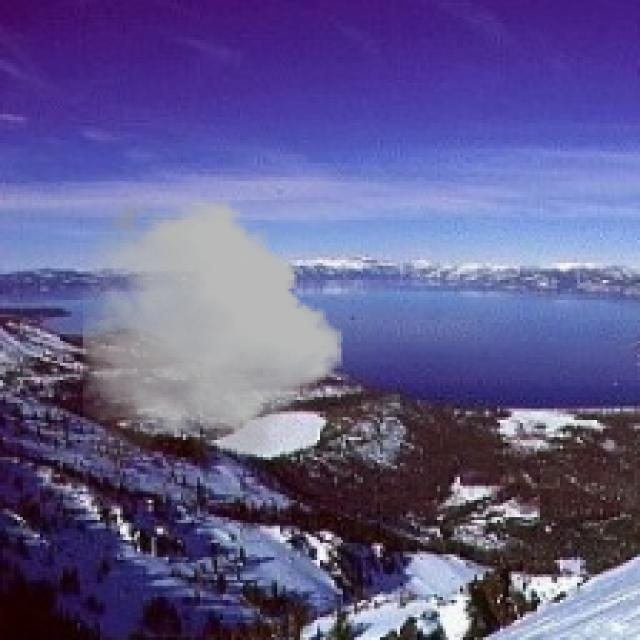Smoke: (83, 194, 343, 466)
